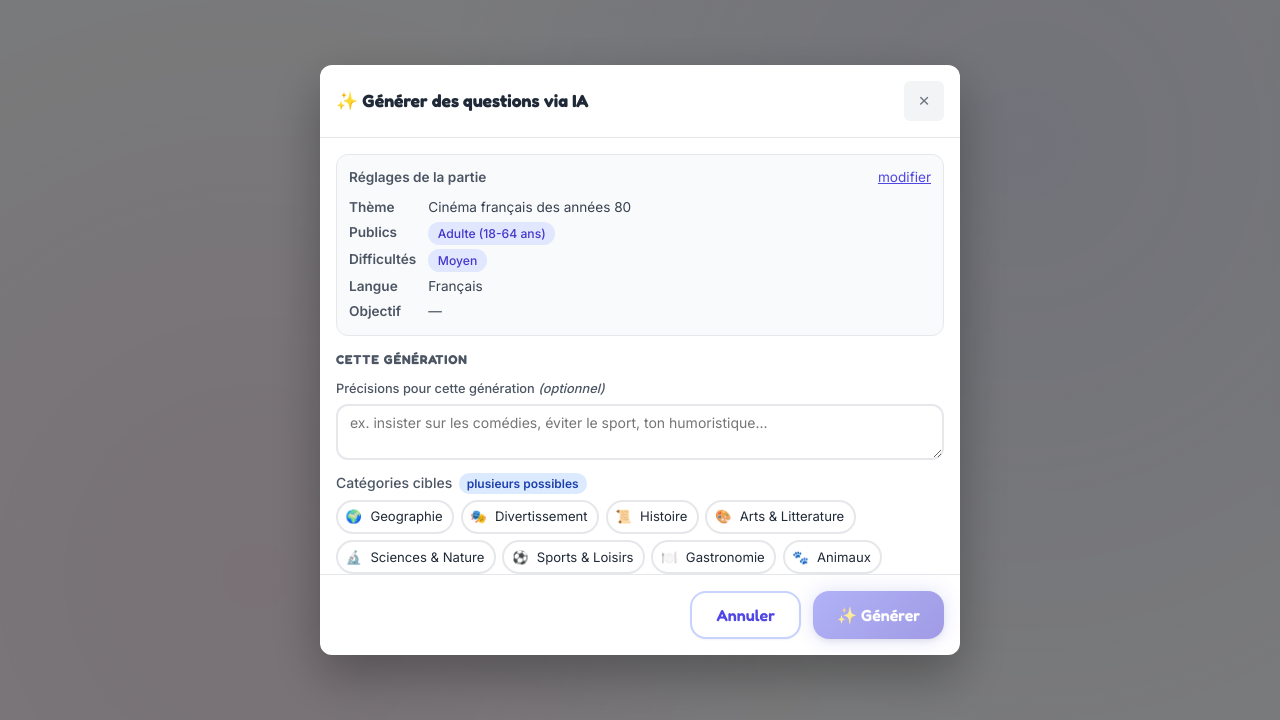
AIGenerateModal — rebalance des sliders (maquette §3, normatif) › cas limite — disabling every type disables "✨ Générer" (maquette §3 fin)
What coordinates should you click on to do the following:
click the text "Divertissement"
I would click on:
 (541, 517)
Its box is x1=495 y1=506 x2=588 y2=527.
(page scrolled)
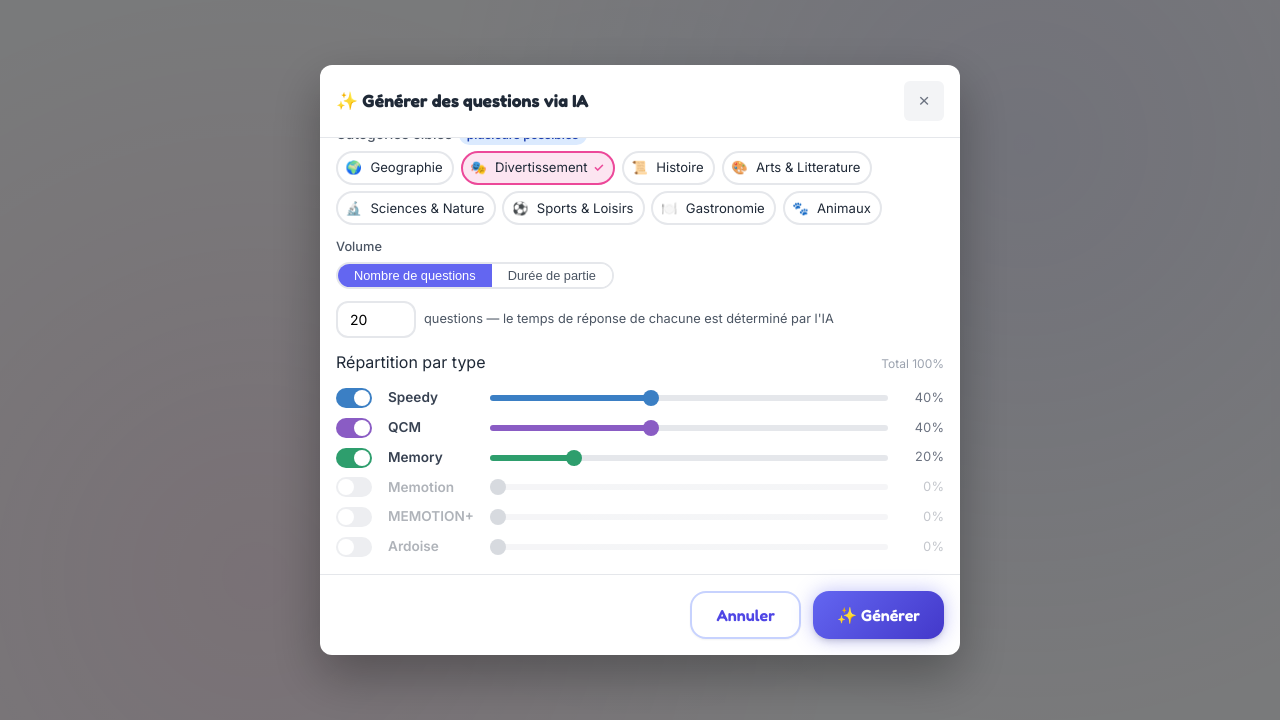
What coordinates should you click on to do the following:
click the checkbox named "Activer Speedy"
I would click on:
 (354, 398)
Its box is x1=336 y1=388 x2=372 y2=408.
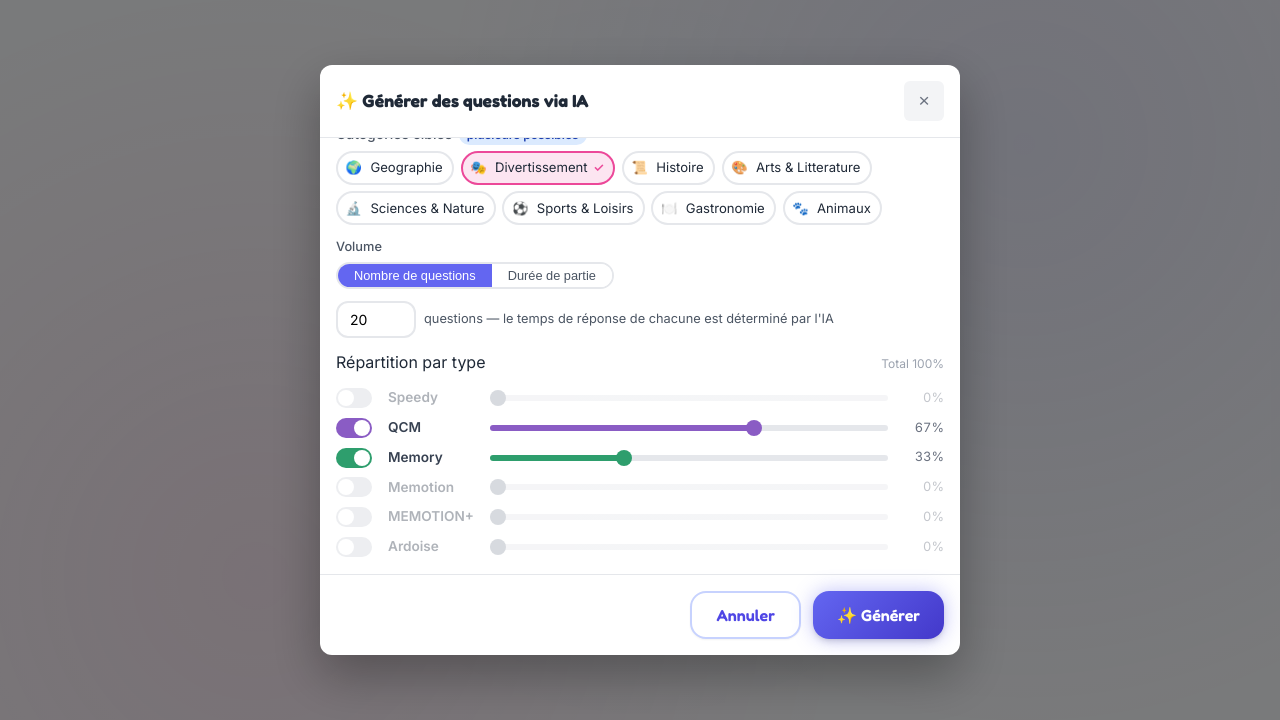
What coordinates should you click on to do the following:
click the checkbox named "Activer QCM"
I would click on:
 (354, 428)
Its box is x1=336 y1=418 x2=372 y2=438.
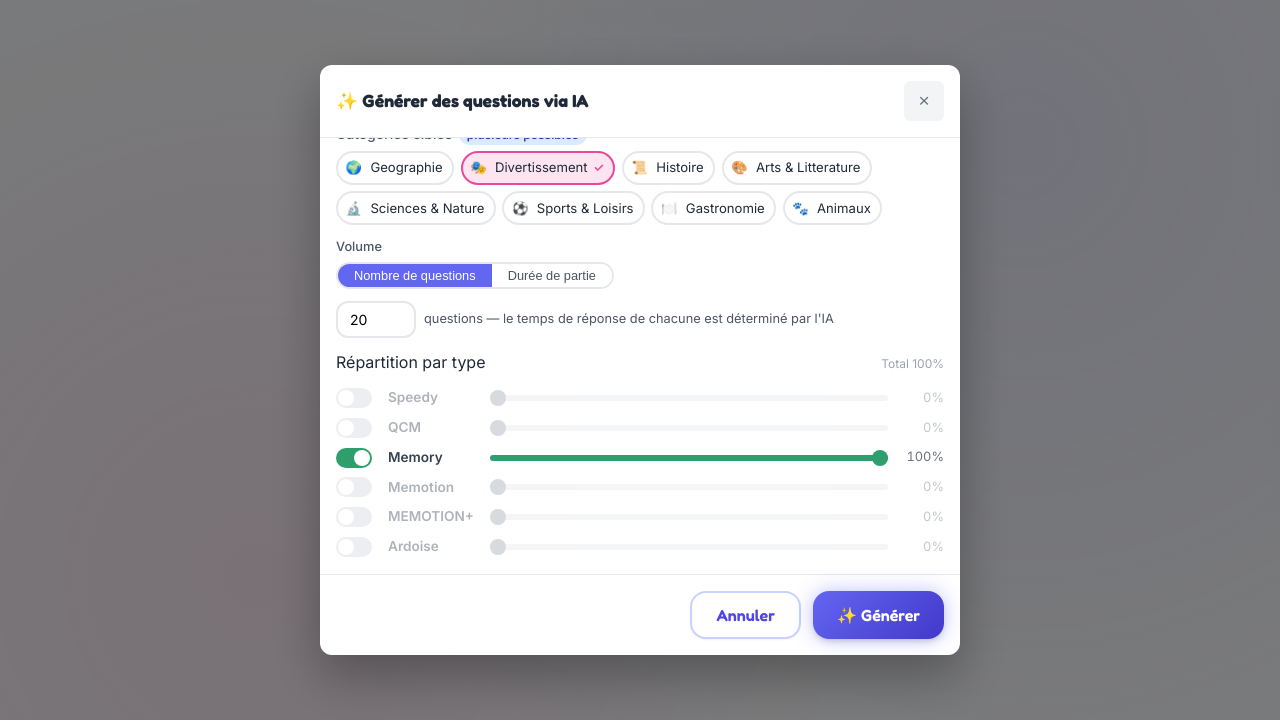
What coordinates should you click on to do the following:
click the checkbox named "Activer Memory"
I would click on:
 (354, 458)
Its box is x1=336 y1=448 x2=372 y2=468.
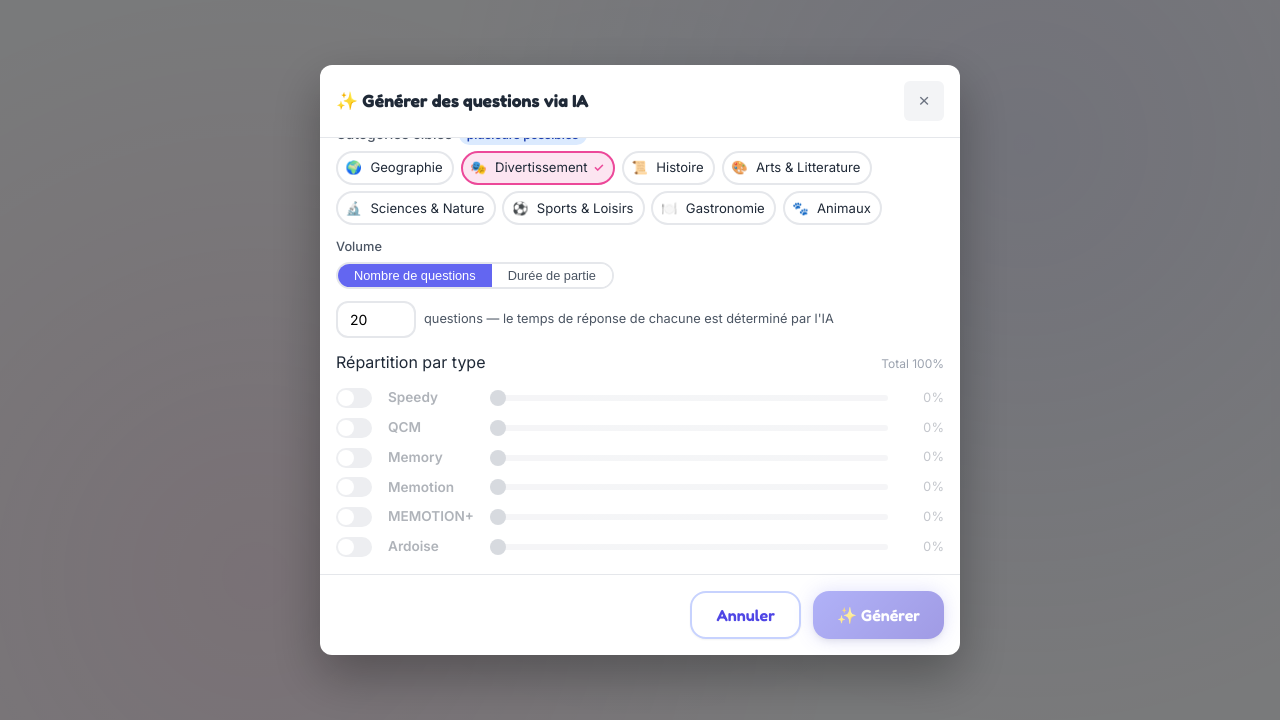
expect the button "✨ Générer" is disabled: met, box x1=813 y1=591 x2=944 y2=639
